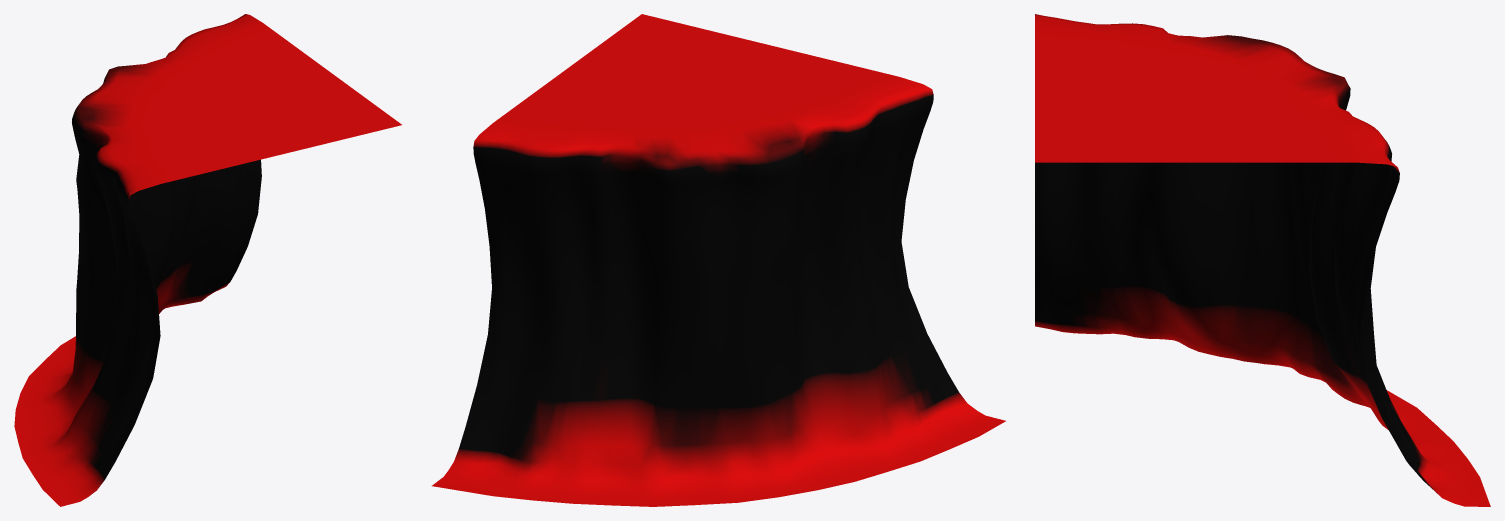
File: GroundCliff03D 2M Foreground.fbx
3 renders of one model, left to right at view 1: azimuth 30°, elevation 25°; view 2: azimuth 150°, elevation 25°; view 3: azimuth 270°, elevation 25°, orthographic. The views are drawn at different scales.
Visible parts, largest first — view 1: GroundCliff03D 2M Foreground; view 2: GroundCliff03D 2M Foreground; view 3: GroundCliff03D 2M Foreground.
Part boxes in pixels (<box>): GroundCliff03D 2M Foreground: <box>14,14,401,506</box>; GroundCliff03D 2M Foreground: <box>432,14,1005,506</box>; GroundCliff03D 2M Foreground: <box>1035,14,1490,506</box>.
Bounding box in the file's own units: 2.4 × 2 × 2.4.
